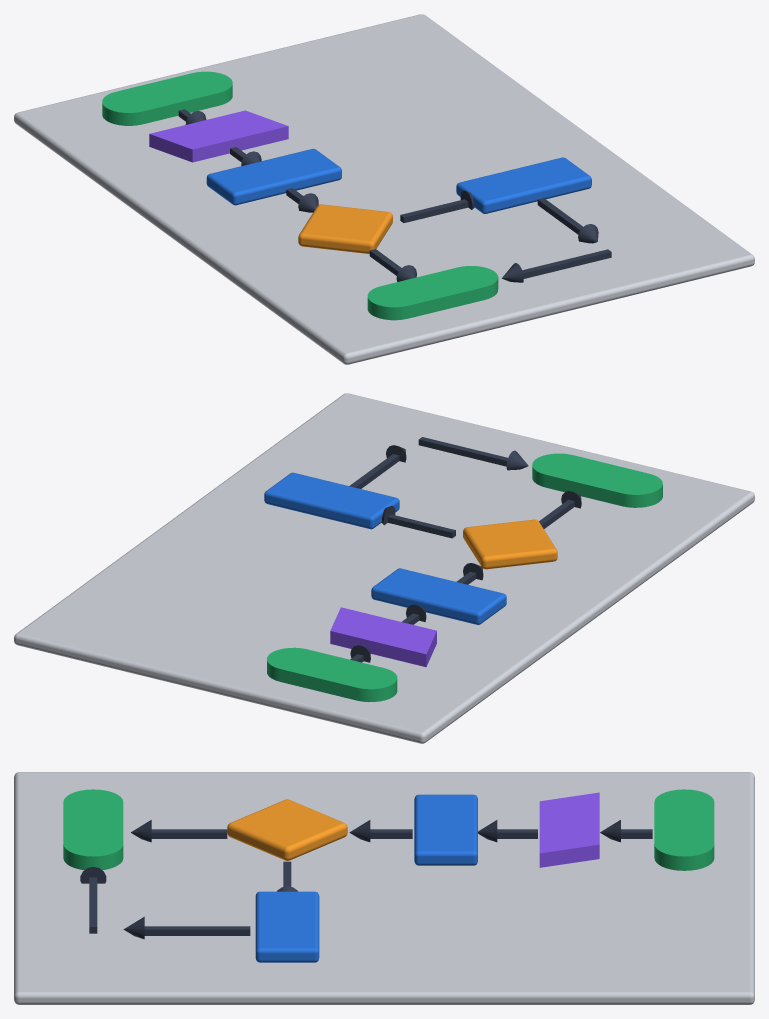
Rendered from algoritma-flowchart.glb.
The picture shows the model from 3 angles, top to bottom: view 1: azimuth 30°, elevation 25°; view 2: azimuth 150°, elevation 25°; view 3: azimuth 270°, elevation 25°; orthographic projection. The views are drawn at different scales.
Parts seen in each view (by area): view 1: model; view 2: model; view 3: model.
Boxes of the visible parts, x1,y1,x2,y2 form: model: [14, 14, 754, 364]; model: [14, 393, 754, 743]; model: [14, 772, 754, 1004].
Bounding box in the file's own units: 3 × 0.185 × 4.2.
